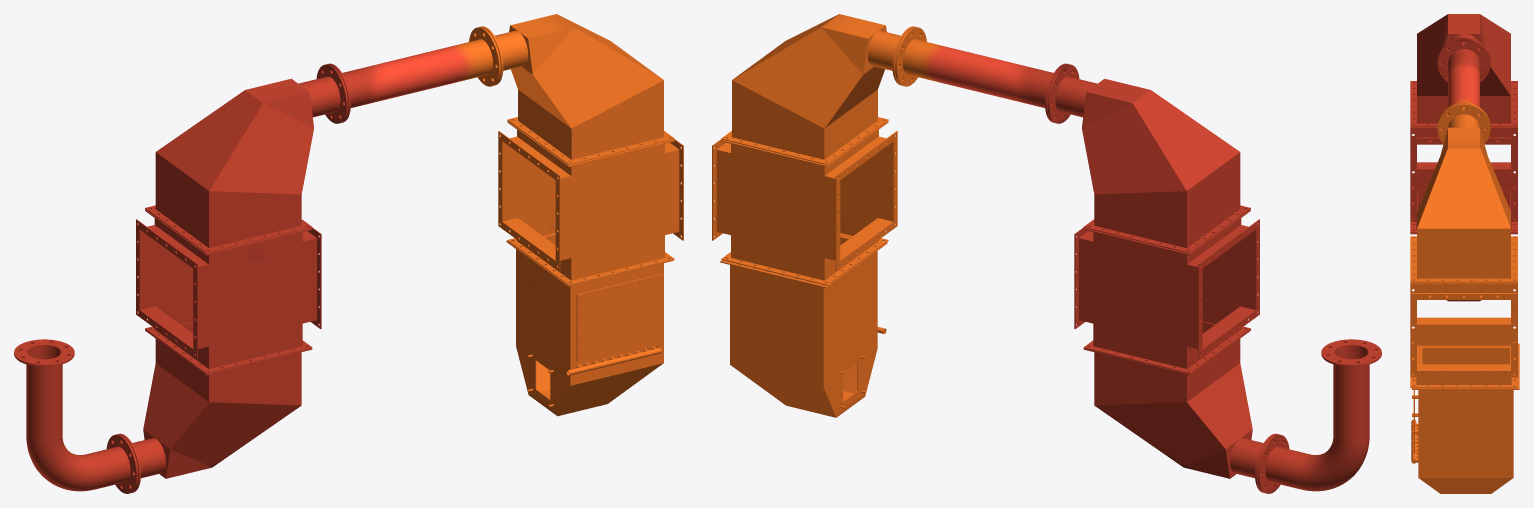
The picture shows the model from 3 angles, left to right: view 1: azimuth 30°, elevation 25°; view 2: azimuth 150°, elevation 25°; view 3: azimuth 270°, elevation 25°; orthographic projection. The views are drawn at different scales.
Visible parts, largest first — view 1: Второй блок\Теплообменник 1\Воро, Второй блок\Теплообменник 1\Короб, Второй блок\Теплообменник 2\Короб, Второй блок\Теплообменник 2\Воронк, Второй блок\Теплообменник 1\Воро.001, Второй блок\Нагревательная печь\К, Второй блок\Потрубок угловой, Второй блок\Потрубка соед теплооб, Второй блок\Нагревательная печь.001, Второй блок\Нагревательная печь\Ф; view 2: Второй блок\Теплообменник 1\Воро, Второй блок\Теплообменник 1\Короб, Второй блок\Теплообменник 2\Короб, Второй блок\Нагревательная печь\К, Второй блок\Теплообменник 2\Воронк, Второй блок\Теплообменник 1\Воро.001, Второй блок\Потрубок угловой, Второй блок\Потрубка соед теплооб; view 3: Второй блок\Теплообменник 2\Воронк, Второй блок\Нагревательная печь\К, Второй блок\Теплообменник 2\Короб, Второй блок\Теплообменник 1\Воро, Второй блок\Теплообменник 1\Короб, Второй блок\Потрубка соед теплооб, Второй блок\Нагревательная печь.002, Второй блок\Теплообменник 1\Воро.001, Второй блок\Нагревательная печь\Ф.
Boxes of the visible parts, x1,y1,x2,y2 form: Второй блок\Теплообменник 1\Воро: (145,64,348,253); Второй блок\Теплообменник 1\Короб: (136,209,321,373); Второй блок\Теплообменник 2\Короб: (498,120,683,285); Второй блок\Теплообменник 2\Воронк: (480,14,674,165); Второй блок\Теплообменник 1\Воро.001: (118,321,312,492); Второй блок\Нагревательная печь\К: (506,241,673,416); Второй блок\Потрубок угловой: (14,339,138,493); Второй блок\Потрубка соед теплооб: (327,27,500,122); Второй блок\Нагревательная печь.001: (576,274,661,361); Второй блок\Нагревательная печь\Ф: (566,346,661,375); Второй блок\Теплообменник 1\Воро: (1047,64,1250,253); Второй блок\Теплообменник 1\Короб: (1074,209,1259,373); Второй блок\Теплообменник 2\Короб: (712,120,897,285); Второй блок\Нагревательная печь\К: (720,233,887,417); Второй блок\Теплообменник 2\Воронк: (721,14,915,165); Второй блок\Теплообменник 1\Воро.001: (1083,321,1277,492); Второй блок\Потрубок угловой: (1257,339,1381,493); Второй блок\Потрубка соед теплооб: (895,27,1068,122); Второй блок\Теплообменник 2\Воронк: (1410,104,1517,282); Второй блок\Нагревательная печь\К: (1412,343,1519,493); Второй блок\Теплообменник 2\Короб: (1410,238,1517,388); Второй блок\Теплообменник 1\Воро: (1410,14,1517,127); Второй блок\Теплообменник 1\Короб: (1410,82,1517,232); Второй блок\Потрубка соед теплооб: (1437,38,1490,129); Второй блок\Нагревательная печь.002: (1419,346,1510,364); Второй блок\Теплообменник 1\Воро.001: (1410,188,1517,301); Второй блок\Нагревательная печь\Ф: (1411,419,1418,463).
Bounding box in the file's own units: 205832 × 121272 × 35008.
